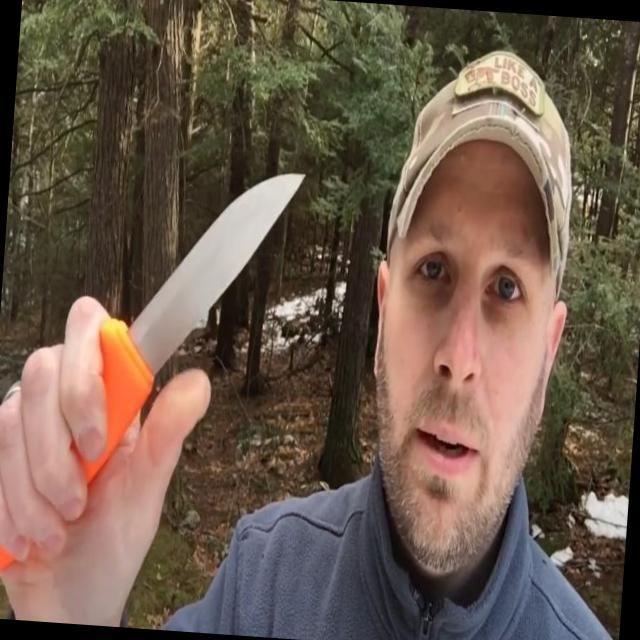Knife: (47, 146, 312, 500)
